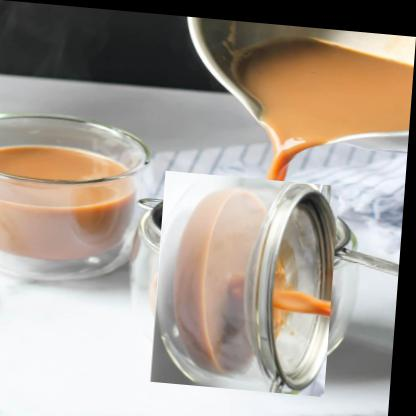milk_based_beverage: (148, 177, 352, 384), (0, 108, 150, 291)
